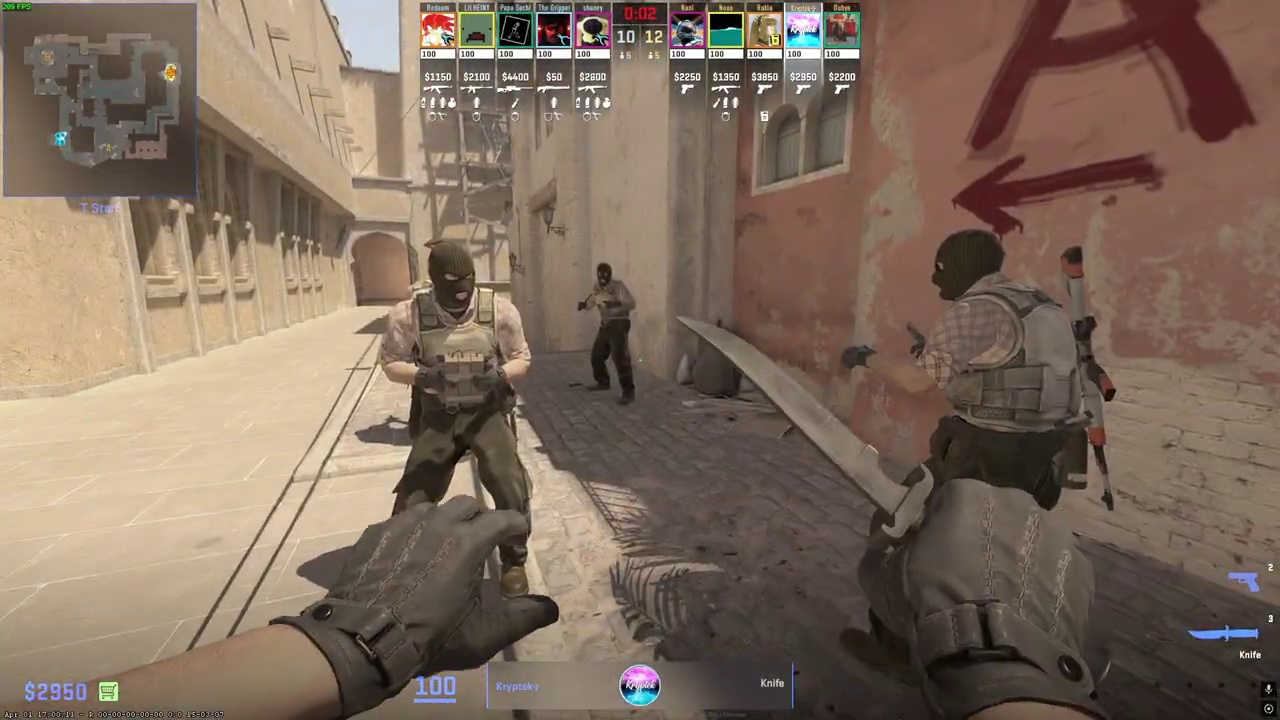Terrorist: (381, 242, 533, 583), (910, 229, 1091, 513), (578, 262, 636, 405)
